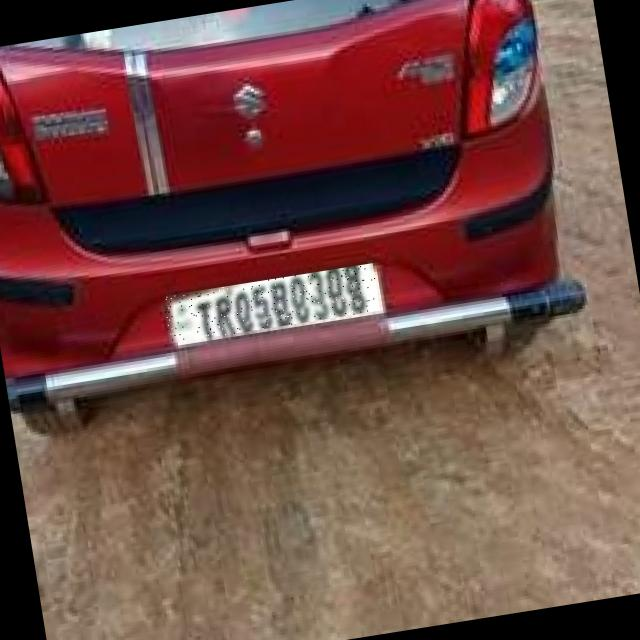Plate: (164, 264, 382, 345)
